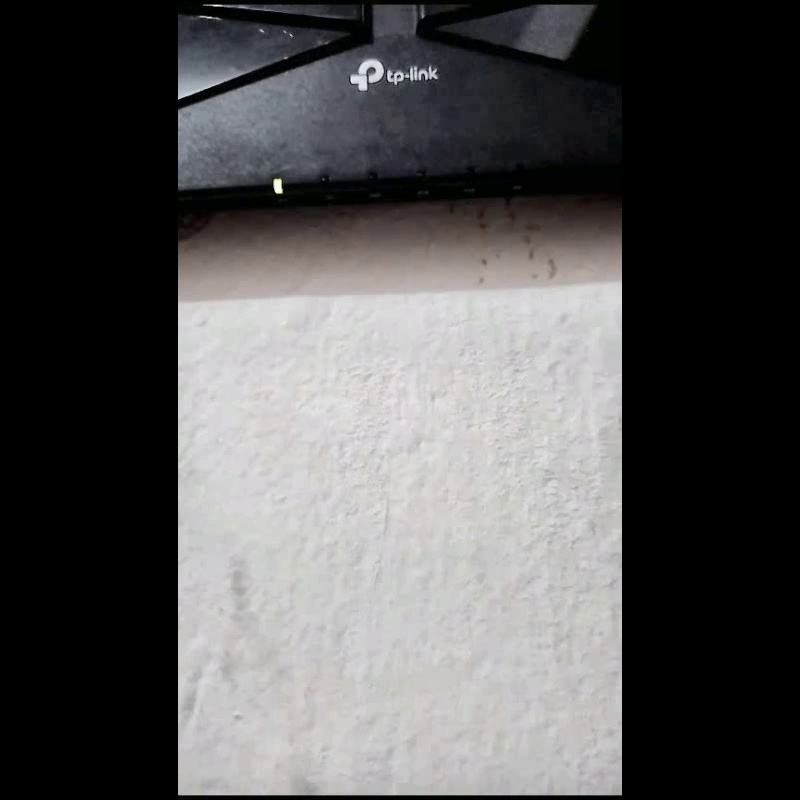off: (512, 161, 523, 184), (416, 167, 427, 187), (464, 165, 474, 186), (367, 169, 377, 188), (319, 174, 328, 190)
on_green: (272, 177, 283, 194)
